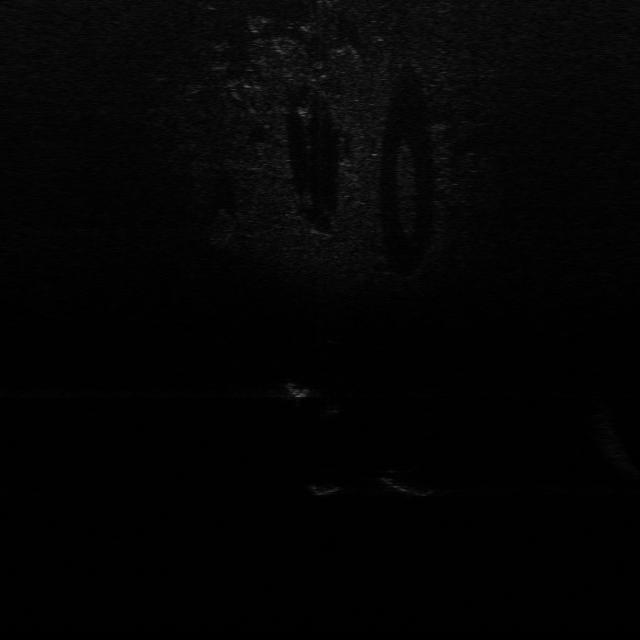cube: (306, 475, 346, 498)
square cage: (282, 378, 323, 404)
tyre: (382, 467, 444, 499)
